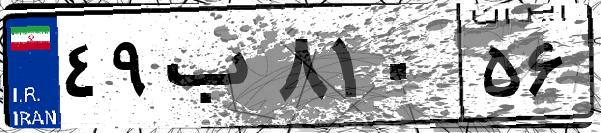0: (385, 28, 445, 110)
1: (330, 28, 385, 110)
4: (57, 26, 110, 100)
5: (475, 38, 525, 113)
6: (525, 38, 570, 115)
8: (270, 28, 330, 110)
9: (110, 28, 158, 98)
ب: (158, 20, 270, 120)
